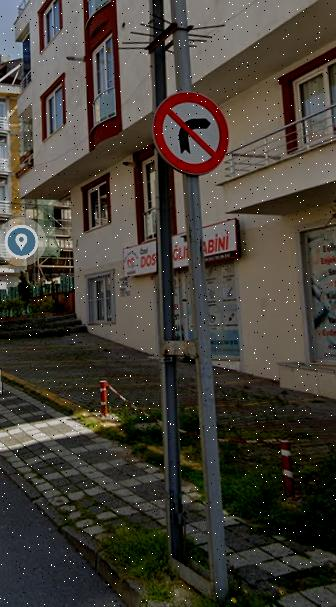rightturnsareforbidden: (154, 95, 226, 173)
